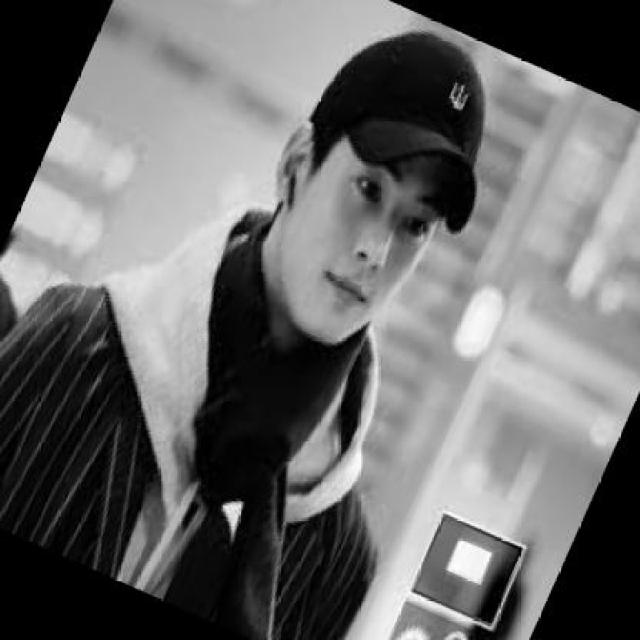earphone: (265, 169, 305, 223)
